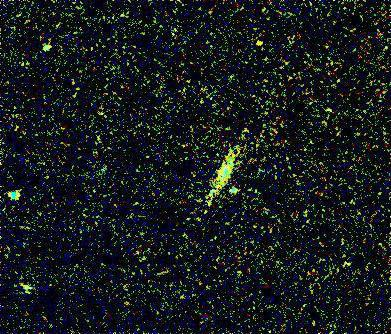star: (245, 27, 275, 57)
